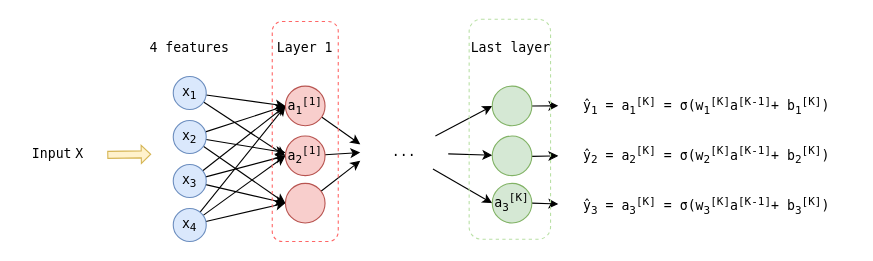
Some shapes in this 873 by 261 pixel diagram are drawn without their labels. The box of each missing label's shape, as (x1, y1, x2, y2) in pixels:
a 1 [K]: (491, 85, 532, 126)
a 2 [K]: (491, 135, 532, 176)
a 3 [1]: (284, 182, 325, 223)
